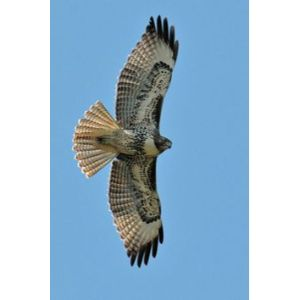hawk: (70, 11, 201, 271)
